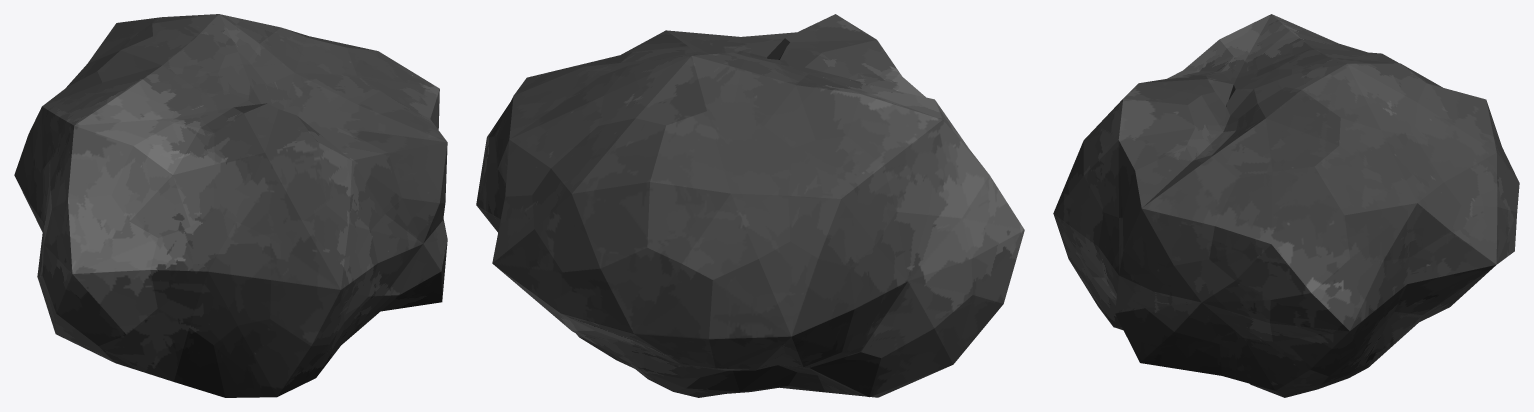
The model's file is PaleRock2.glb.
3 renders of one model, left to right at view 1: azimuth 30°, elevation 25°; view 2: azimuth 150°, elevation 25°; view 3: azimuth 270°, elevation 25°, orthographic. The views are drawn at different scales.
Visible parts, largest first — view 1: PaleRock2; view 2: PaleRock2; view 3: PaleRock2.
Boxes of the visible parts, x1=… form: PaleRock2: x1=14, y1=14, x2=447, y2=397; PaleRock2: x1=476, y1=14, x2=1024, y2=397; PaleRock2: x1=1053, y1=14, x2=1519, y2=397.
Bounding box in the file's own units: 3.93 × 2.85 × 3.81.
Materials: 1 (1 with a texture image).
